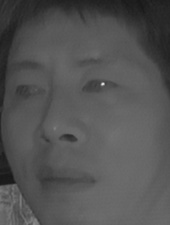eye: (81, 75, 121, 98), (9, 81, 46, 102)
mouth: (34, 159, 99, 200)
